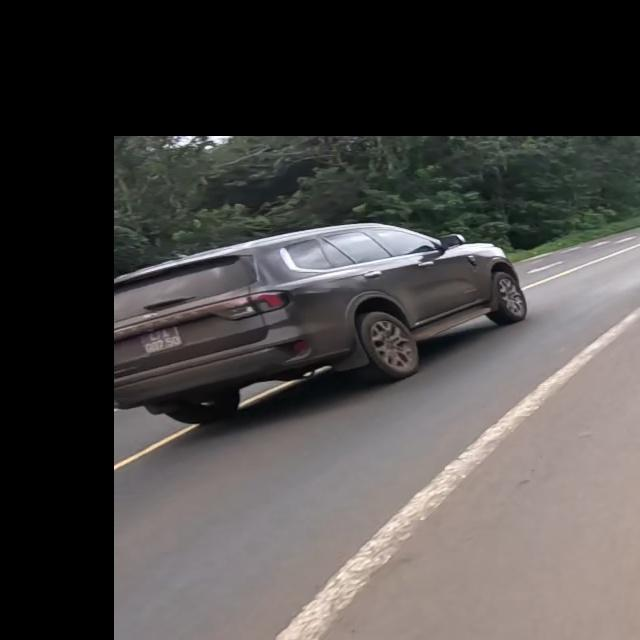license-plate: (141, 325, 184, 355)
